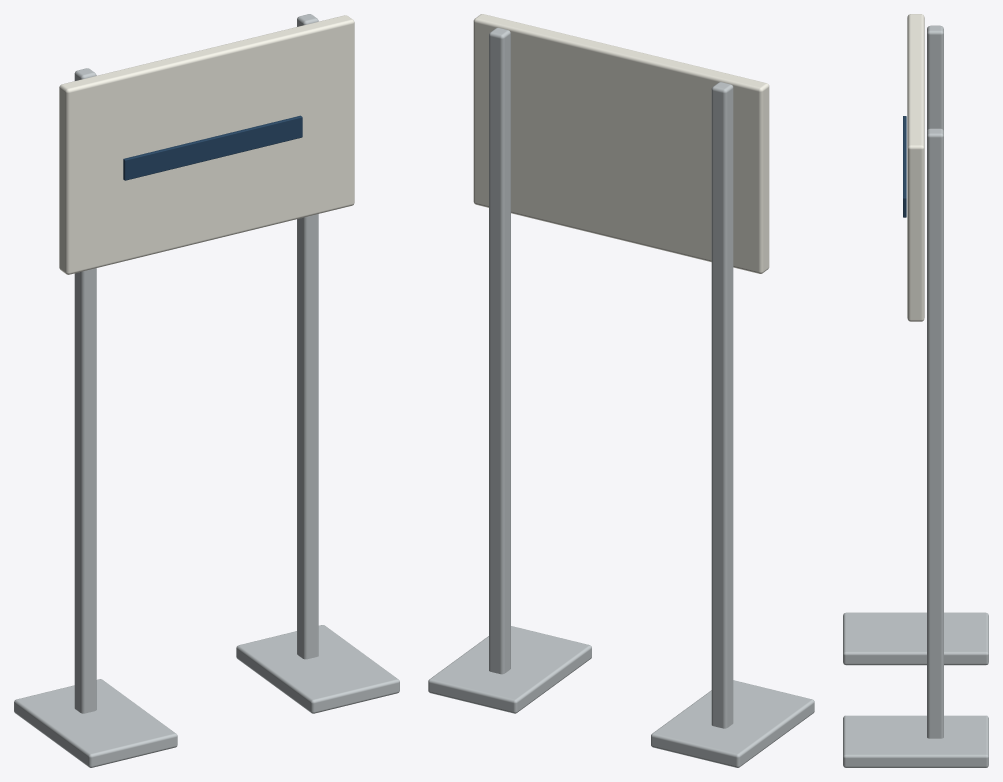
The model's file is rowing-boathouse-and-regatta-course-course-marker-boar-0d27df05__32173.glb.
3 renders of one model, left to right at view 1: azimuth 30°, elevation 25°; view 2: azimuth 150°, elevation 25°; view 3: azimuth 270°, elevation 25°, orthographic. The views are drawn at different scales.
Visible parts, largest first — view 1: course-marker-board; view 2: course-marker-board; view 3: course-marker-board.
Boxes of the visible parts, x1,y1,x2,y2 form: course-marker-board: [14, 14, 399, 767]; course-marker-board: [428, 14, 814, 767]; course-marker-board: [843, 14, 988, 767].
Bounding box in the file's own units: 0.7001 × 1.4 × 0.2999.
